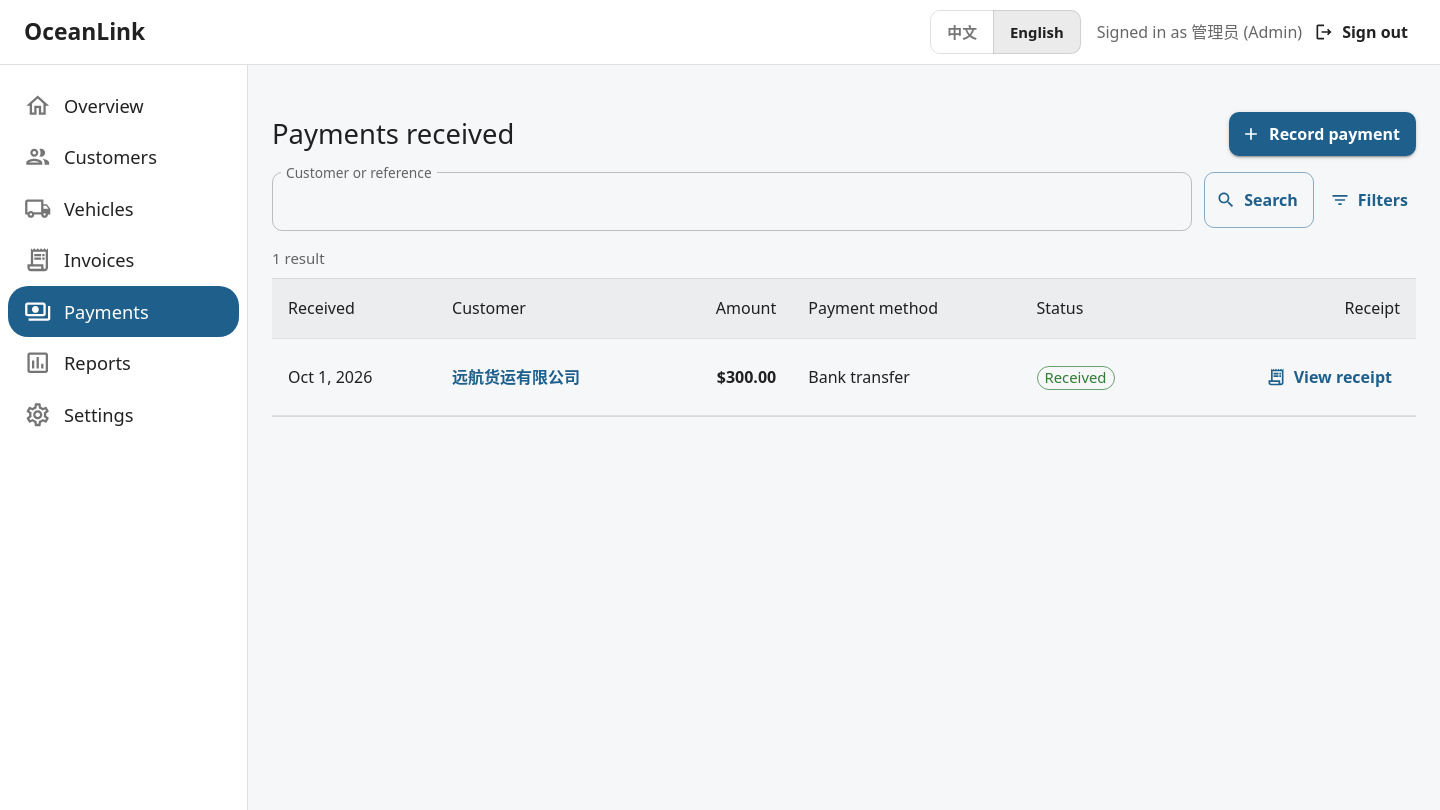
staff payment workflows › keeps advanced filters collapsed until requested, applies them, and clears them
Click the button "Filters".
click(1371, 200)  # box x1=1326 y1=172 x2=1416 y2=228
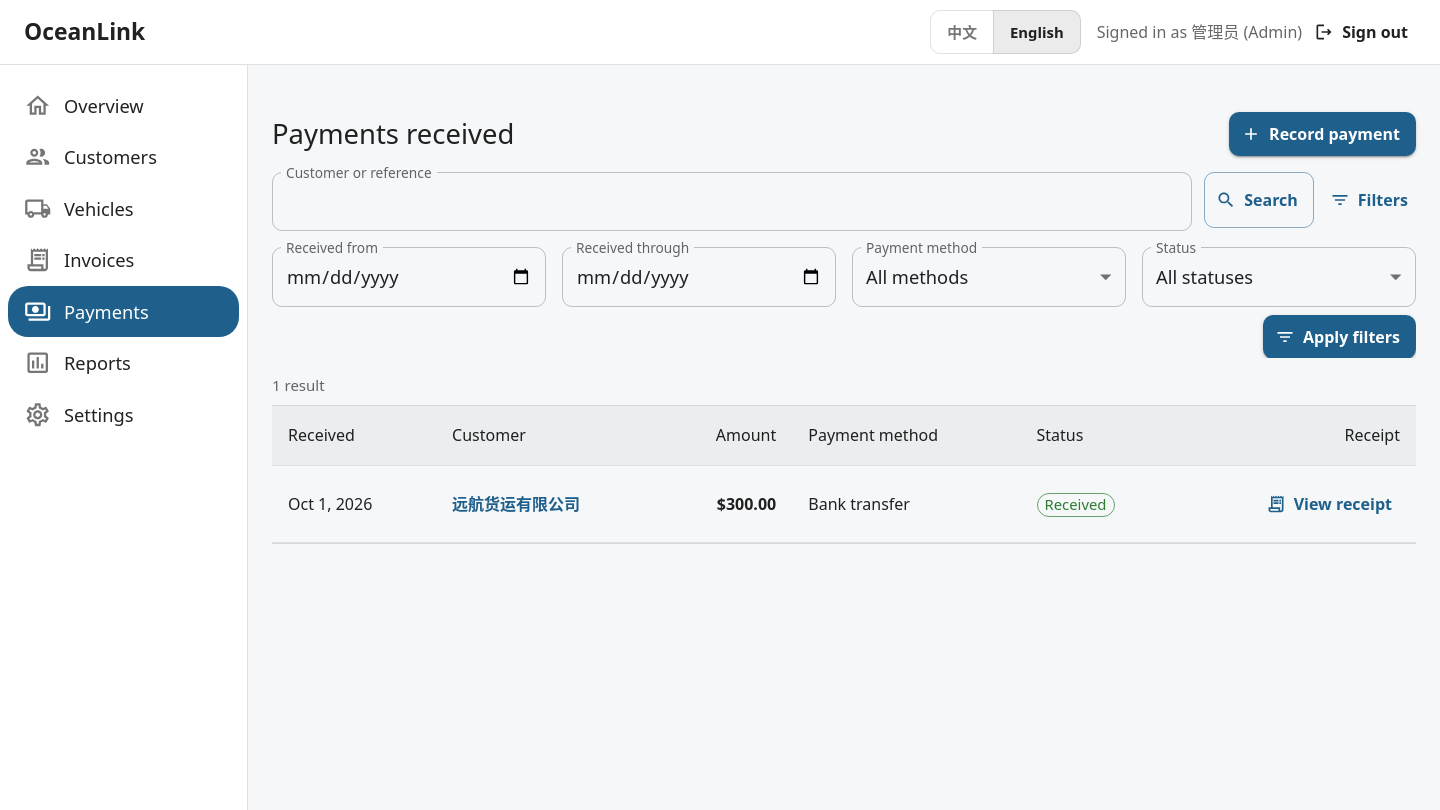
Click the dropdown named "Payment method".
click(917, 276)  # box x1=866 y1=264 x2=968 y2=289
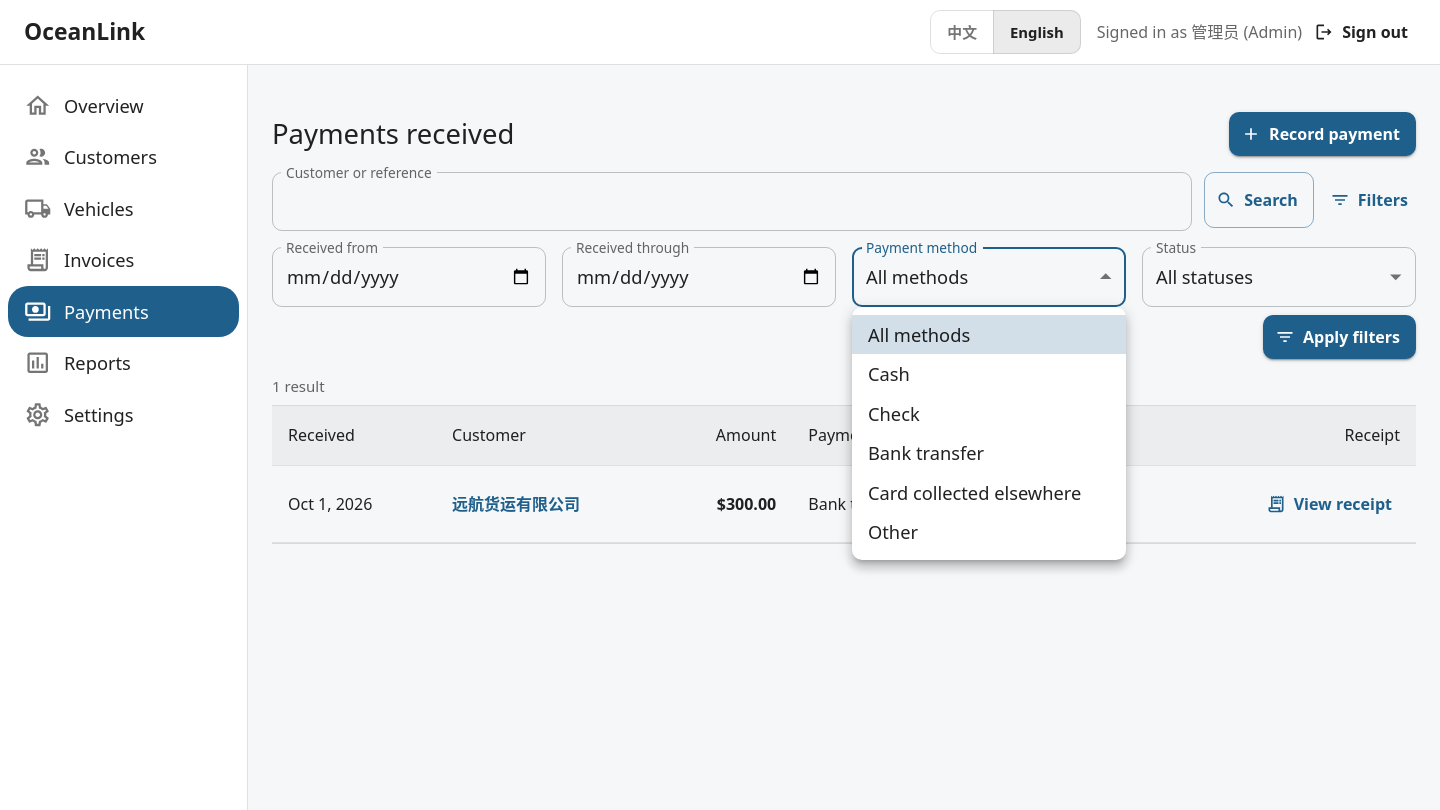
Click the option "Cash".
click(889, 374)  # box x1=868 y1=361 x2=910 y2=386
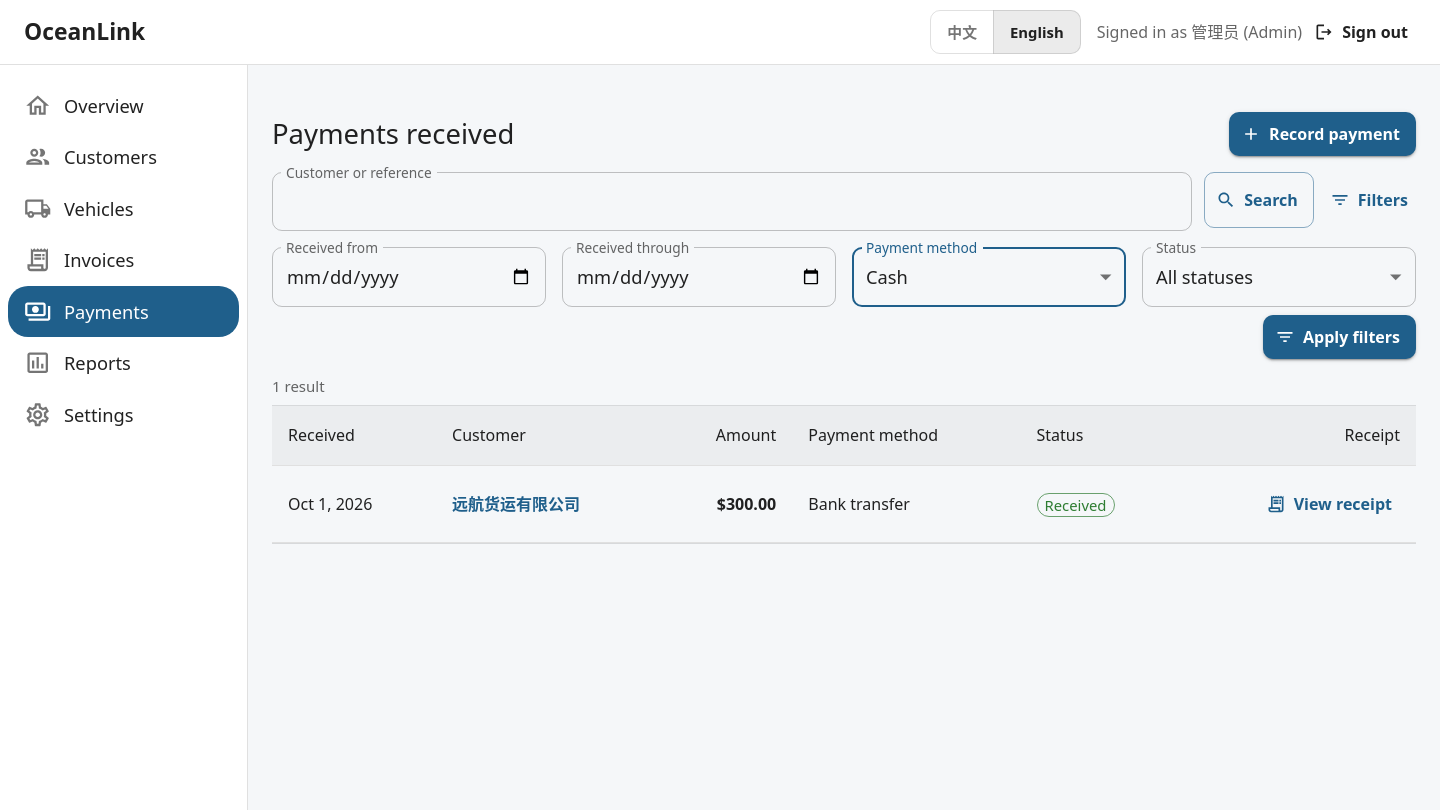
Click the button "Apply filters".
click(1340, 337)  # box x1=1263 y1=315 x2=1416 y2=359
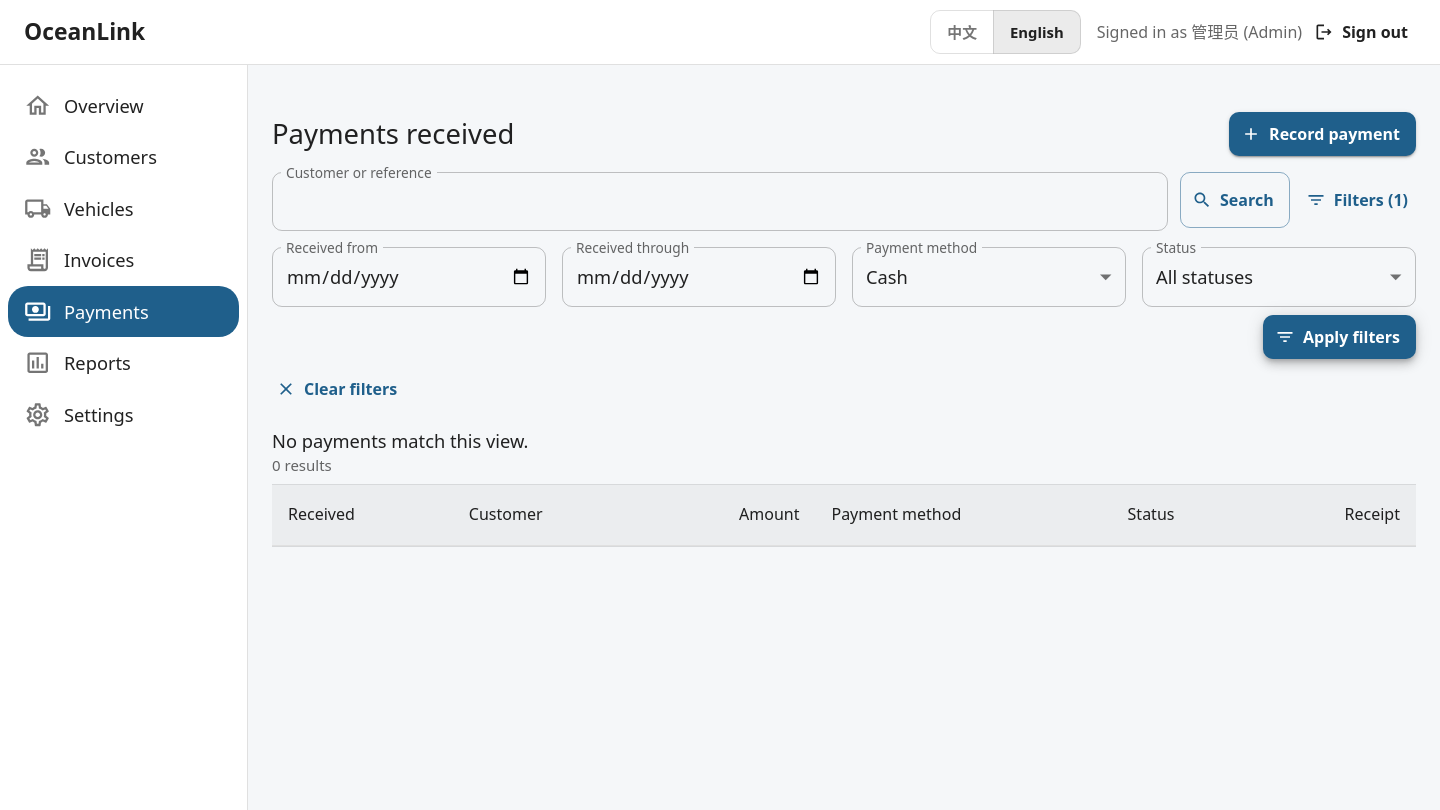
Check: the button "Filters (1)" is shown, box x1=1302 y1=172 x2=1416 y2=228
Click the button "Clear filters".
click(339, 389)  # box x1=272 y1=367 x2=405 y2=411
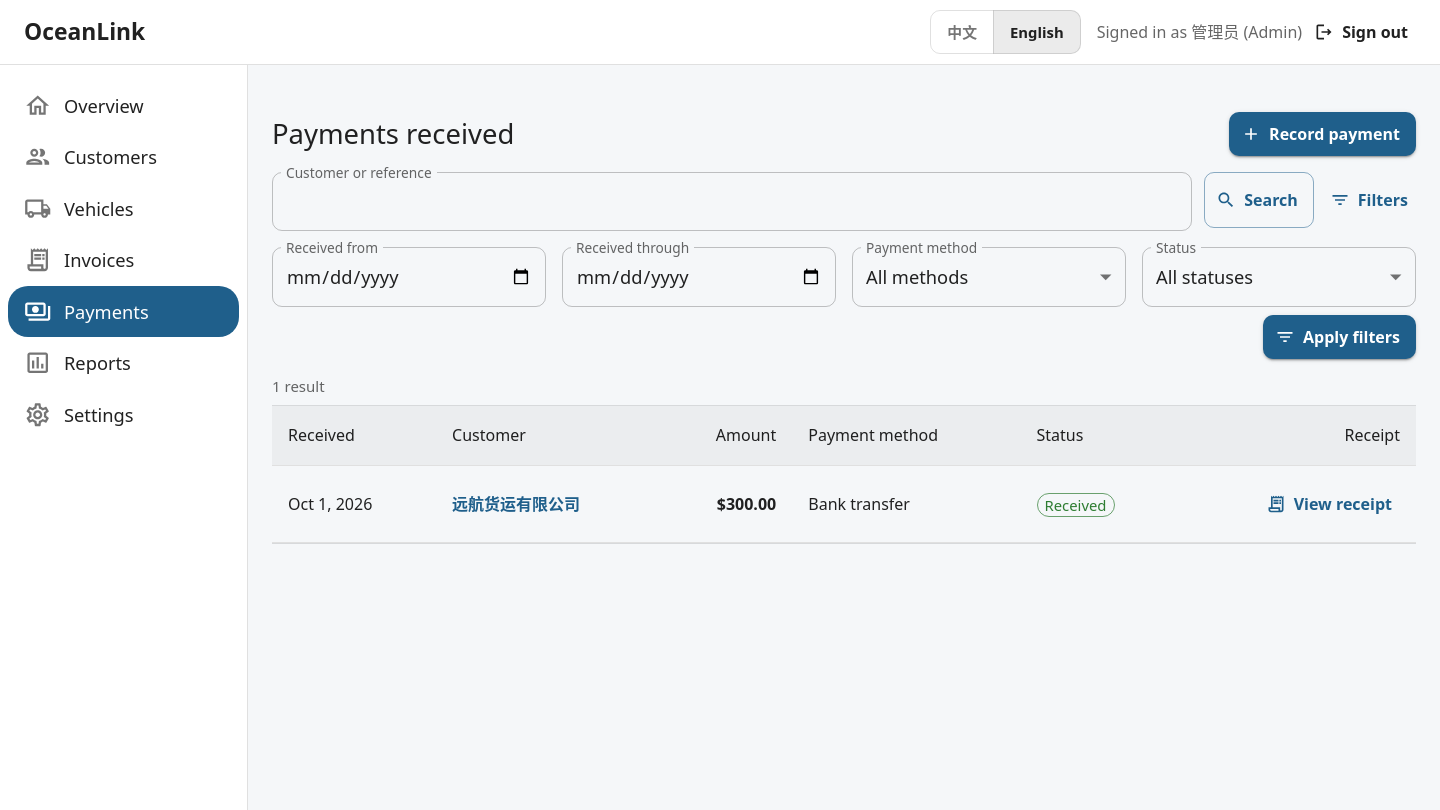
Check: the button "Filters" is shown, box x1=1326 y1=172 x2=1416 y2=228
Check: the button "Clear filters" is gone
